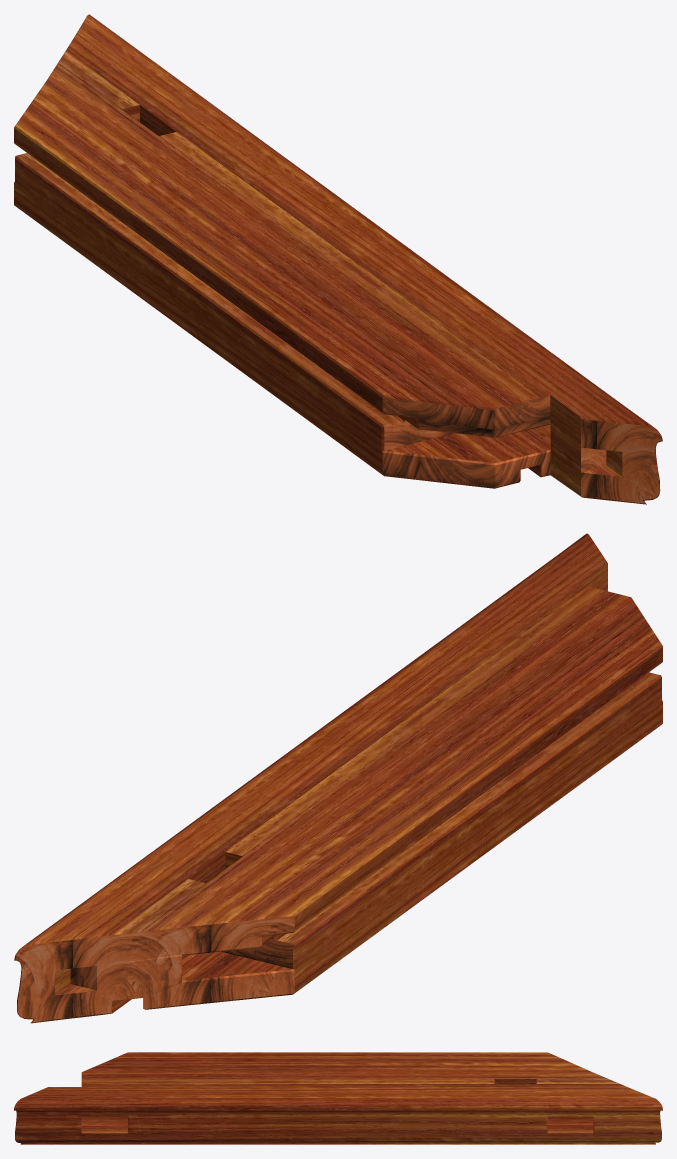
Rendered from GMY_J_motou_01.FBX.
3 views of the same model, one above another, from view 1: azimuth 30°, elevation 25°; view 2: azimuth 150°, elevation 25°; view 3: azimuth 270°, elevation 25° (orthographic). The views are drawn at different scales.
Parts seen in each view (by area): view 1: GMY_J_motou_01; view 2: GMY_J_motou_01; view 3: GMY_J_motou_01.
Boxes of the visible parts, x1,y1,x2,y2 form: GMY_J_motou_01: (14,14,662,504); GMY_J_motou_01: (14,533,662,1023); GMY_J_motou_01: (14,1052,662,1144).
Bounding box in the file's own units: 8.16 × 3.51 × 44.85.
